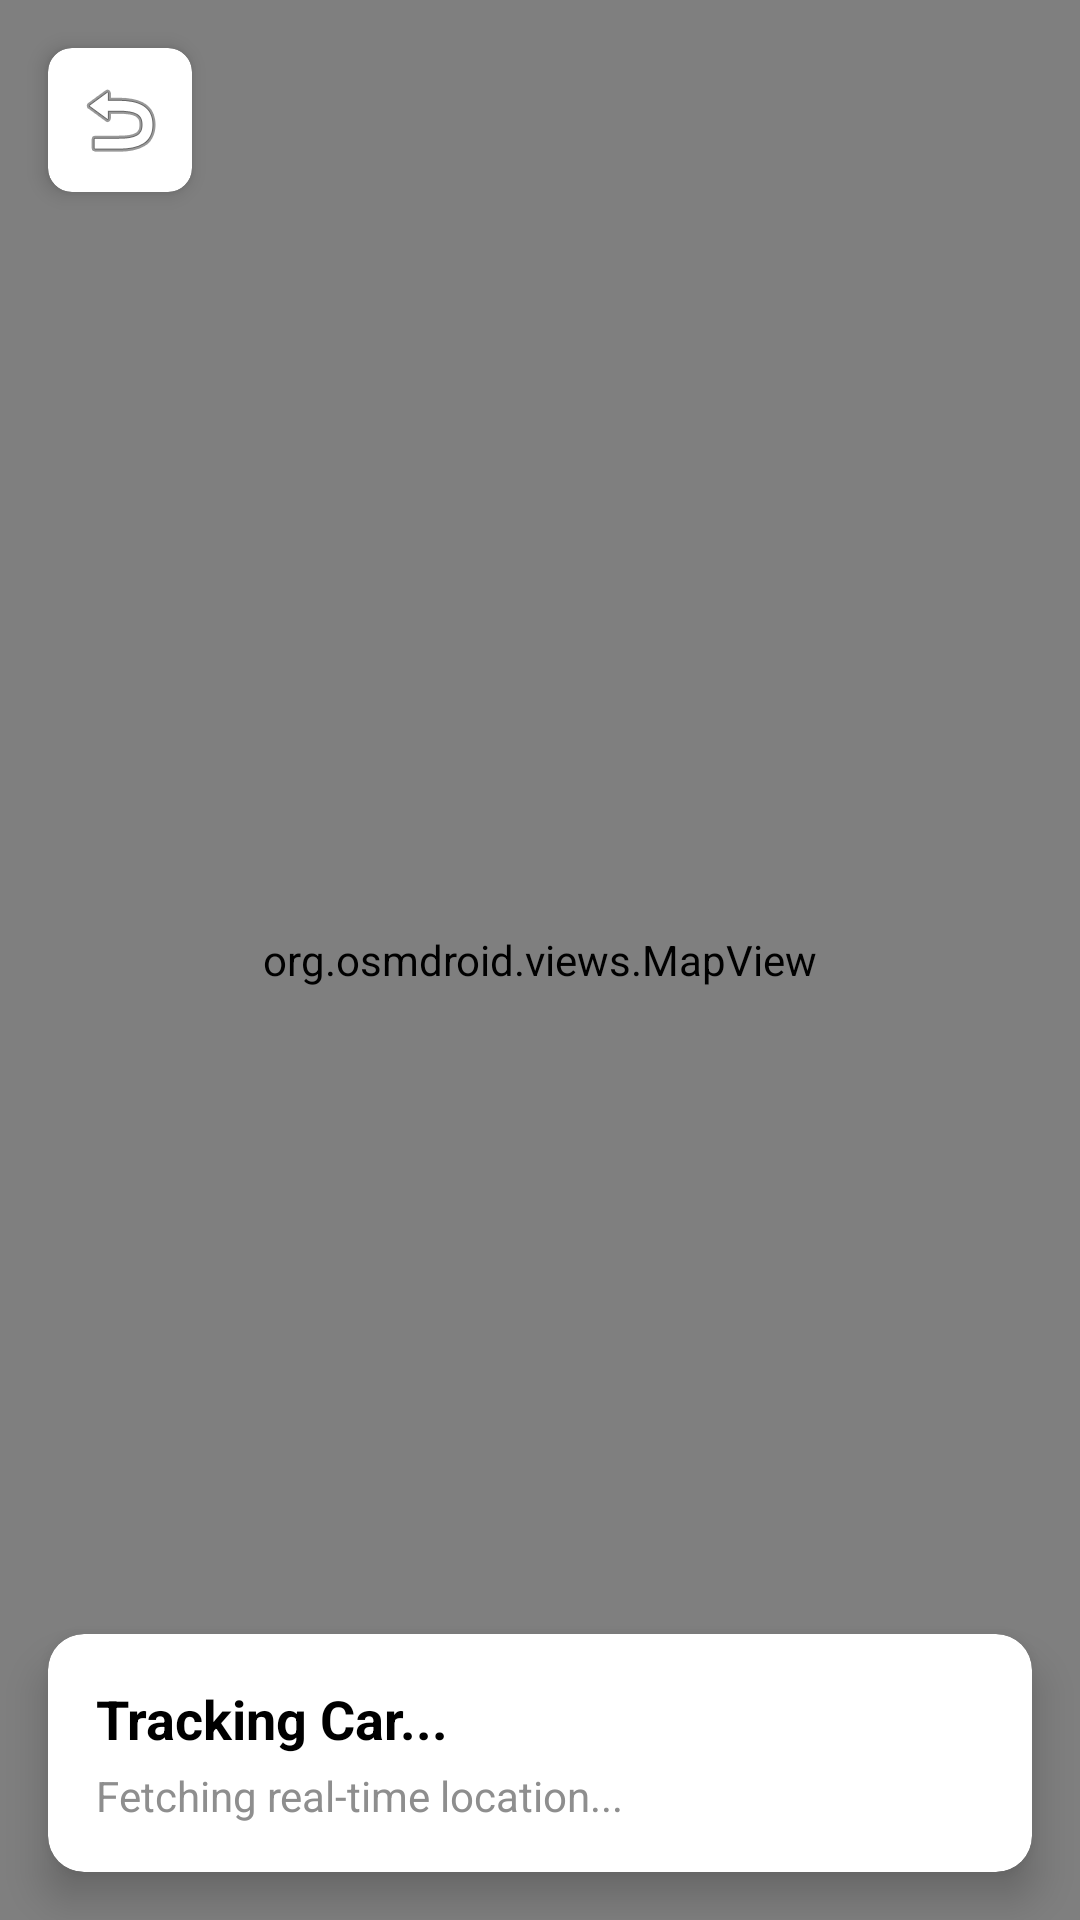

Icons on this 1080px x 1920px Android screen, each with its box as (x1, y1, x2, y2):
revert: (48, 48, 192, 192)
